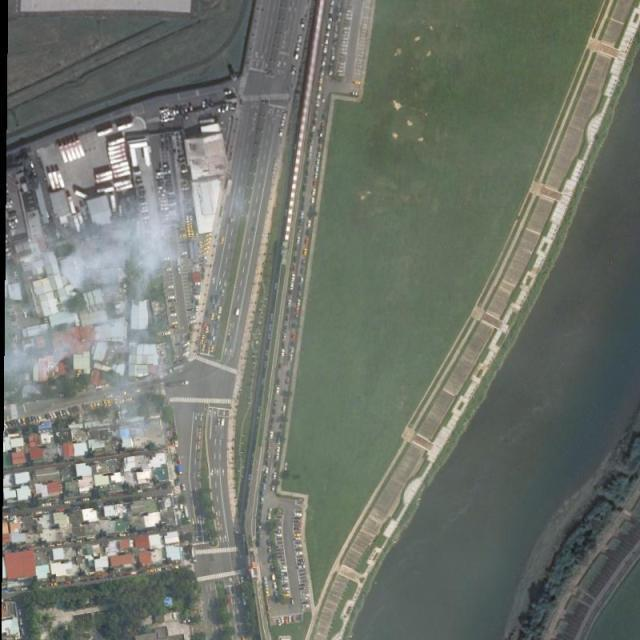vehicle: (63, 144, 74, 162), (75, 191, 93, 202), (68, 142, 78, 161), (114, 179, 132, 189), (115, 183, 133, 193), (56, 171, 66, 189), (59, 146, 69, 164), (76, 140, 86, 158), (95, 175, 114, 184), (110, 156, 127, 166), (108, 147, 125, 157), (72, 142, 82, 159), (77, 213, 87, 230), (52, 171, 61, 189), (72, 215, 81, 233), (108, 142, 124, 152), (111, 161, 128, 170), (48, 173, 57, 190), (169, 364, 184, 374), (110, 152, 126, 161), (109, 138, 125, 147), (118, 123, 134, 132), (97, 129, 113, 138), (113, 166, 130, 174), (95, 171, 112, 179), (114, 170, 130, 178), (68, 198, 76, 214), (110, 195, 117, 213), (97, 188, 114, 194), (167, 382, 188, 386), (202, 246, 210, 252), (77, 370, 82, 378), (202, 250, 210, 255), (235, 307, 239, 316), (49, 412, 54, 419), (106, 399, 111, 406), (201, 335, 206, 342), (204, 233, 211, 238), (183, 342, 190, 347), (167, 285, 174, 290), (290, 282, 294, 290), (52, 412, 57, 418), (22, 418, 26, 425), (38, 415, 42, 422), (266, 590, 270, 597), (265, 583, 269, 590), (277, 618, 281, 625), (285, 617, 289, 624), (296, 552, 303, 556), (270, 432, 274, 439), (218, 307, 222, 314), (195, 282, 202, 286), (297, 237, 301, 244), (103, 401, 108, 406), (205, 241, 210, 246), (205, 237, 210, 242), (58, 410, 62, 416), (90, 403, 94, 409), (294, 527, 302, 530), (283, 594, 291, 597), (180, 234, 186, 238), (291, 274, 294, 282), (298, 299, 301, 307), (183, 352, 189, 356), (170, 322, 178, 325), (170, 314, 178, 317), (218, 419, 221, 426), (222, 419, 225, 426), (277, 447, 280, 454), (274, 582, 277, 589), (280, 566, 287, 569), (295, 545, 302, 548), (294, 538, 301, 541), (294, 534, 301, 537), (282, 350, 285, 357), (304, 249, 307, 256), (311, 197, 314, 204), (190, 215, 193, 222), (190, 223, 193, 230), (211, 345, 214, 352), (206, 326, 209, 333), (211, 314, 214, 321), (222, 290, 225, 297), (178, 267, 181, 274), (134, 172, 141, 175), (354, 81, 361, 84), (268, 514, 271, 521), (182, 485, 186, 490), (281, 618, 285, 623), (353, 92, 358, 96), (175, 440, 178, 446), (274, 472, 277, 478), (94, 403, 97, 409), (97, 402, 100, 408), (276, 455, 279, 461), (278, 438, 281, 444), (263, 576, 266, 582), (303, 594, 309, 597), (281, 570, 287, 573), (199, 242, 202, 248), (308, 221, 311, 227), (313, 190, 316, 196), (191, 230, 194, 236), (288, 300, 291, 306), (203, 344, 206, 350), (164, 333, 170, 336), (157, 177, 163, 180), (186, 216, 189, 222), (222, 237, 225, 243), (283, 334, 286, 340), (298, 566, 306, 568), (272, 574, 275, 579), (292, 616, 295, 621), (301, 213, 304, 218), (314, 182, 317, 187), (315, 174, 318, 179), (317, 160, 320, 165), (318, 153, 321, 158), (187, 224, 190, 229), (295, 514, 302, 516), (282, 588, 289, 590), (282, 580, 289, 582), (281, 577, 288, 579), (188, 230, 190, 237), (189, 322, 196, 324), (266, 468, 268, 474), (289, 616, 291, 622), (277, 388, 279, 394), (189, 316, 195, 318), (168, 297, 174, 299), (162, 209, 168, 211), (272, 486, 274, 491), (316, 167, 318, 172), (194, 296, 199, 298), (295, 521, 302, 522)
